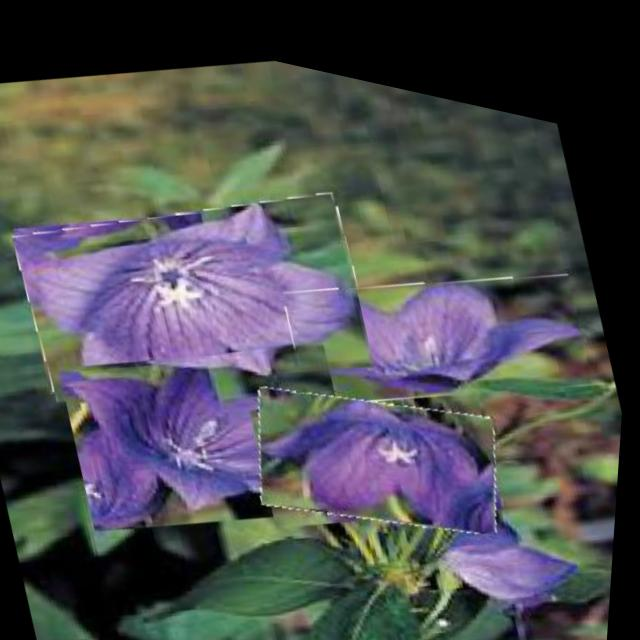Flower: (4, 123, 391, 454), (55, 285, 377, 576), (280, 193, 604, 443), (240, 317, 524, 568)
